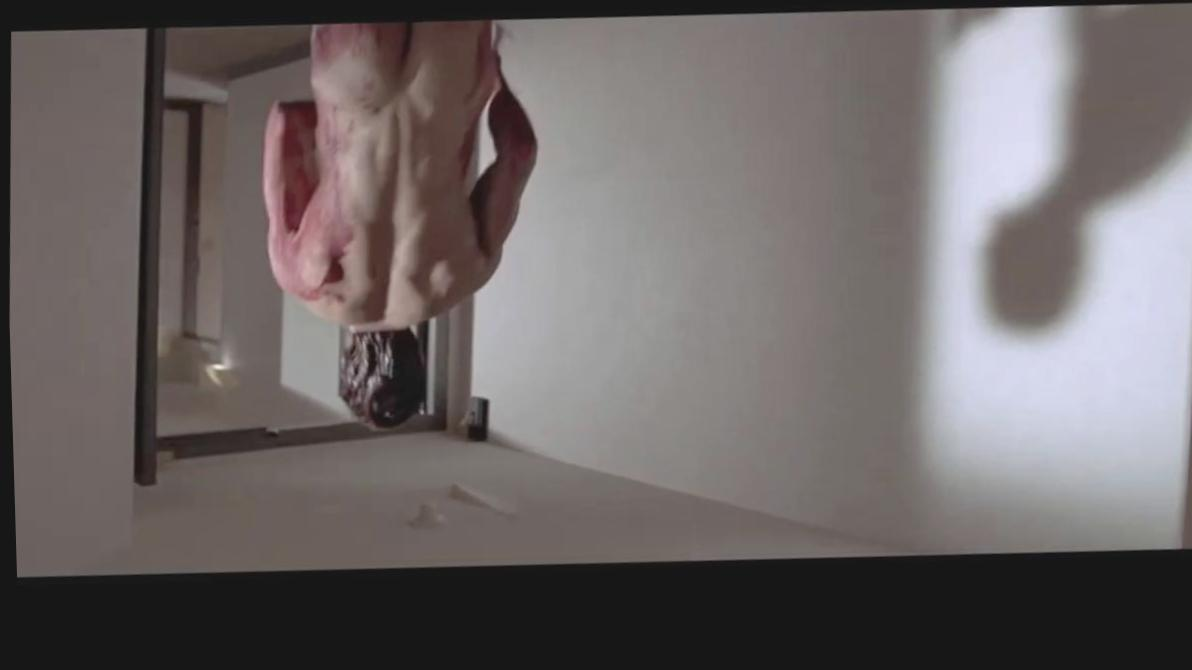Fire: (261, 106, 353, 311), (309, 27, 411, 114)
